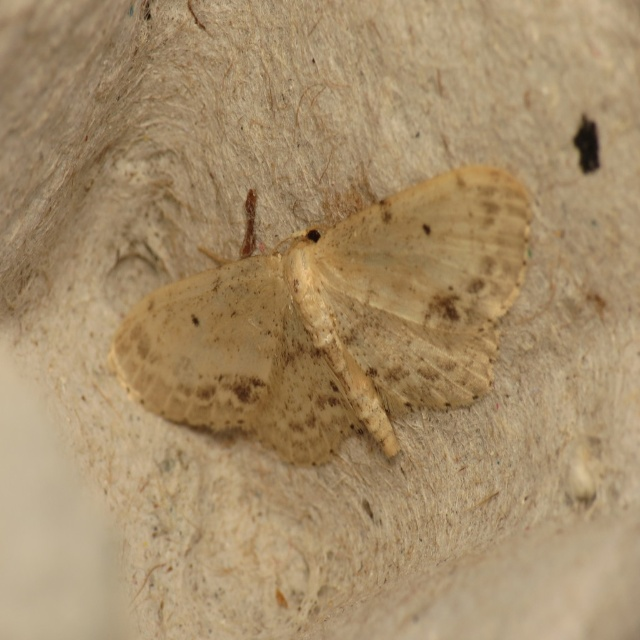Moths and butterflies: (108, 158, 536, 465)
